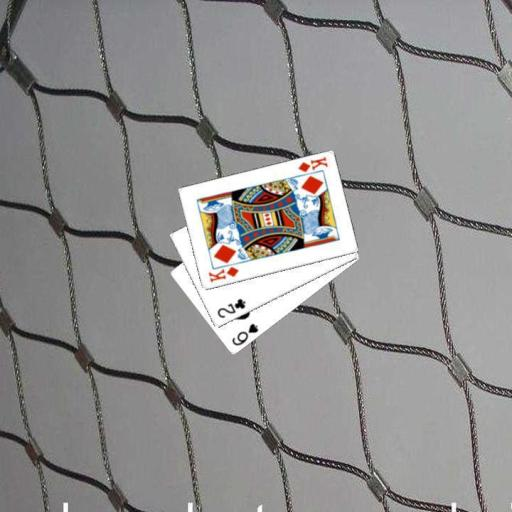card-corner: (228, 320, 260, 348), (214, 296, 247, 320), (205, 264, 240, 284), (295, 154, 329, 174)
